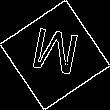M_S: (28, 26, 82, 84)
